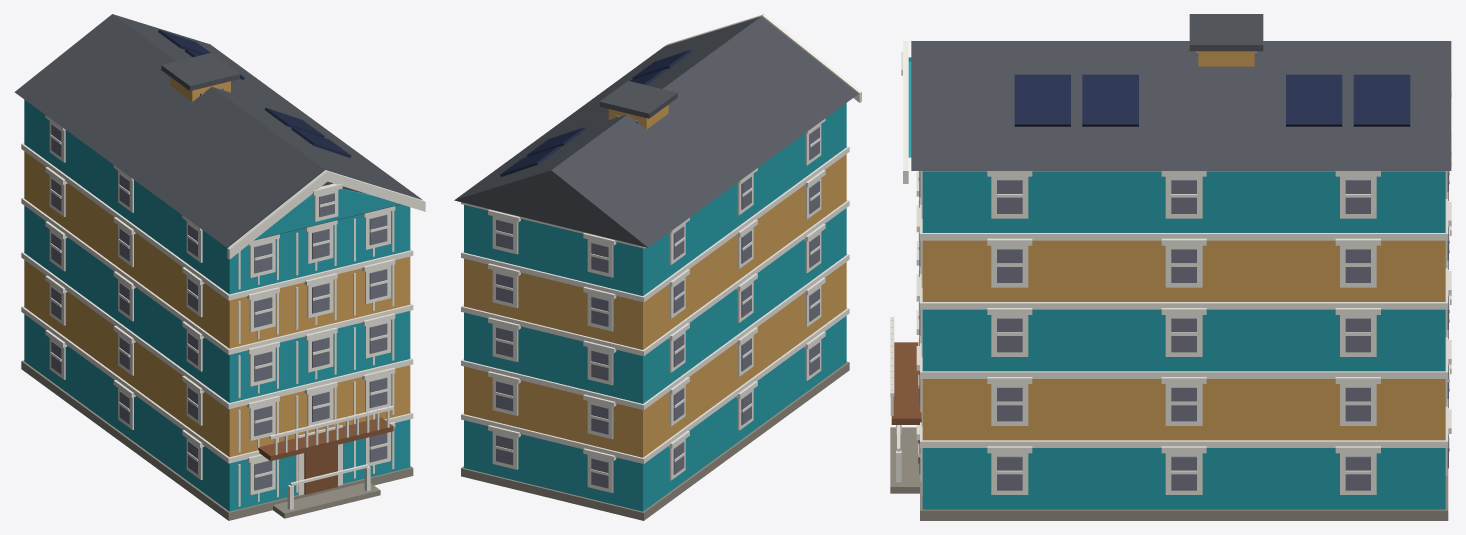
Rendered from house-1x2-5f-valparaiso-a-solar.glb.
3 renders of one model, left to right at view 1: azimuth 30°, elevation 25°; view 2: azimuth 150°, elevation 25°; view 3: azimuth 270°, elevation 25°, orthographic. The views are drawn at different scales.
Parts seen in each view (by area): view 1: house-1x2-5f-valparaiso-a-solar; view 2: house-1x2-5f-valparaiso-a-solar; view 3: house-1x2-5f-valparaiso-a-solar.
Part boxes in pixels (bbox=[...]): house-1x2-5f-valparaiso-a-solar: bbox=[14, 14, 425, 520]; house-1x2-5f-valparaiso-a-solar: bbox=[454, 14, 861, 520]; house-1x2-5f-valparaiso-a-solar: bbox=[890, 14, 1451, 520].
Size of the model in its own units: 1.02 by 1.7 by 1.99.
Materials: 1 (1 with a texture image).
